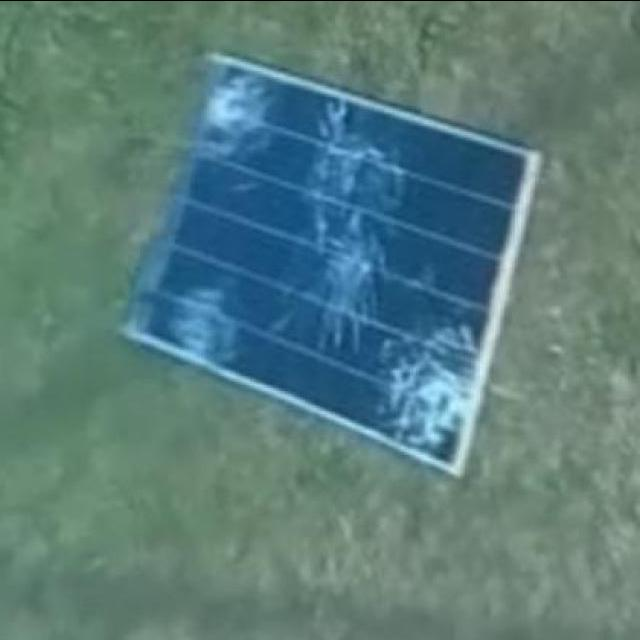cracked: (119, 53, 541, 477)
